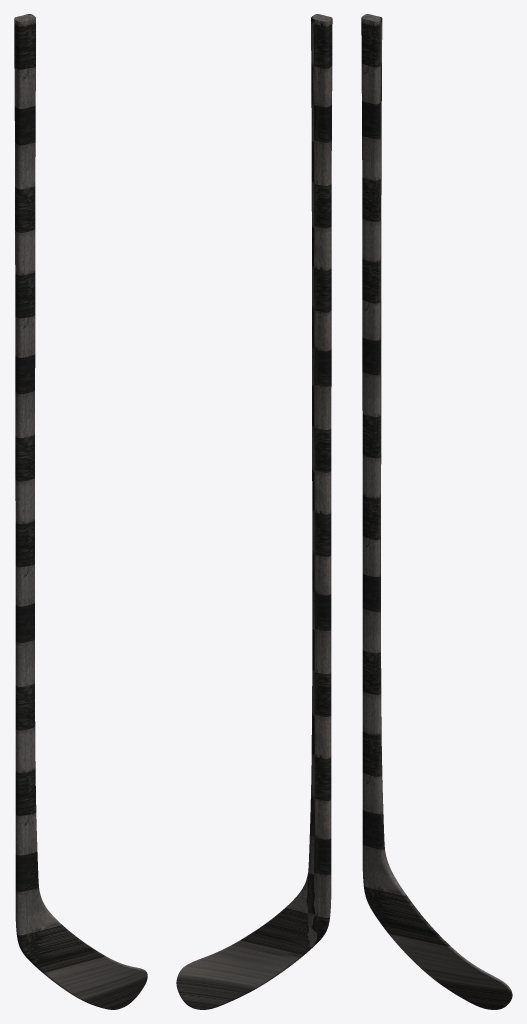
Rendered from P92M-SBO.glb.
The picture shows the model from 3 angles, left to right: view 1: azimuth 30°, elevation 25°; view 2: azimuth 150°, elevation 25°; view 3: azimuth 330°, elevation 25°; orthographic projection. The views are drawn at different scales.
Visible parts, largest first — view 1: geometry_0; view 2: geometry_0; view 3: geometry_0.
Boxes of the visible parts, x1,y1,x2,y2 form: geometry_0: [14, 14, 147, 1009]; geometry_0: [176, 14, 332, 1009]; geometry_0: [361, 14, 512, 1009].
Bounding box in the file's own units: 241 × 1650 × 56.13.
Materials: 1 (1 with a texture image).
